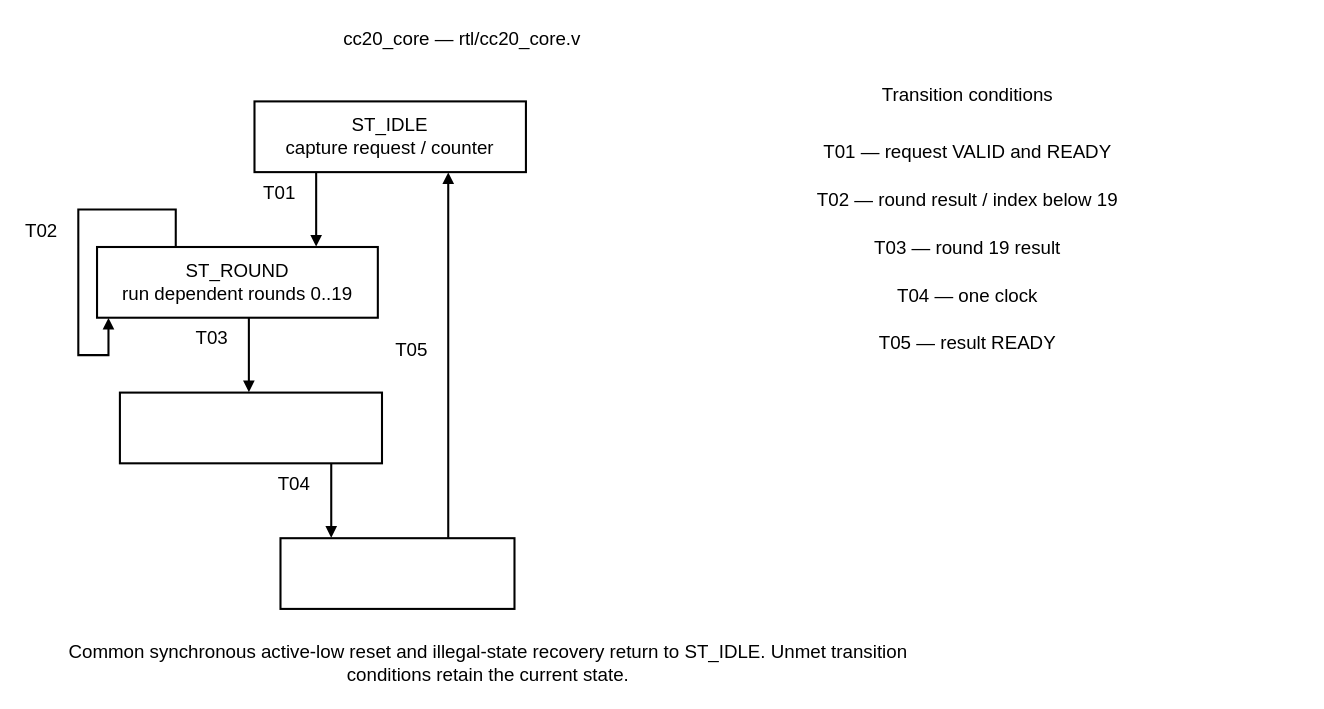
The diagram is 1324 pixels wide and 709 high, and some of its shapes have lost their labels. The shapes that lost their labels are listed below. From the top down, each one's centre as x and y in pixels, then its label:
pixel 250 427: ST_FEED_FORWARD add original state words
pixel 397 573: ST_HOLD hold block512 / VALID
